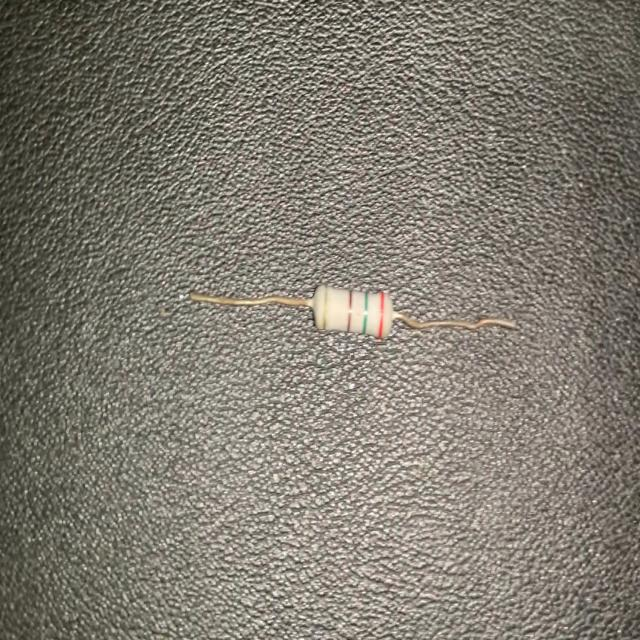resistor: (183, 271, 521, 358)
